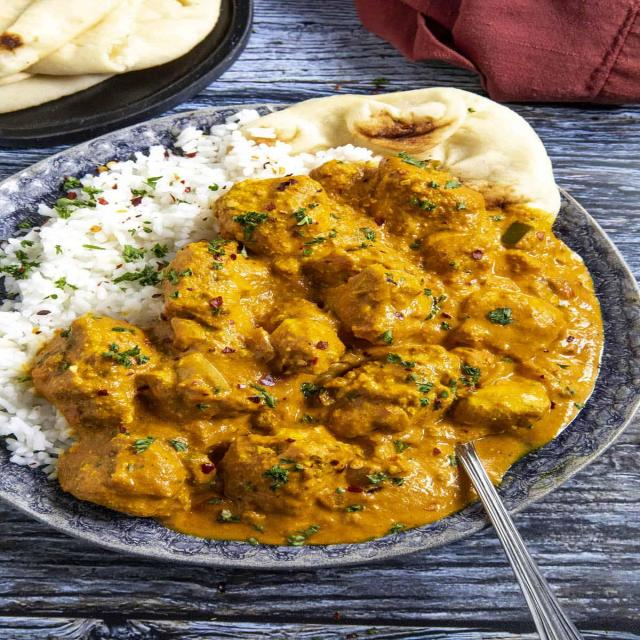chicken: (142, 191, 598, 531)
rice: (0, 150, 176, 327)
roti: (253, 90, 579, 198), (13, 0, 237, 111)
